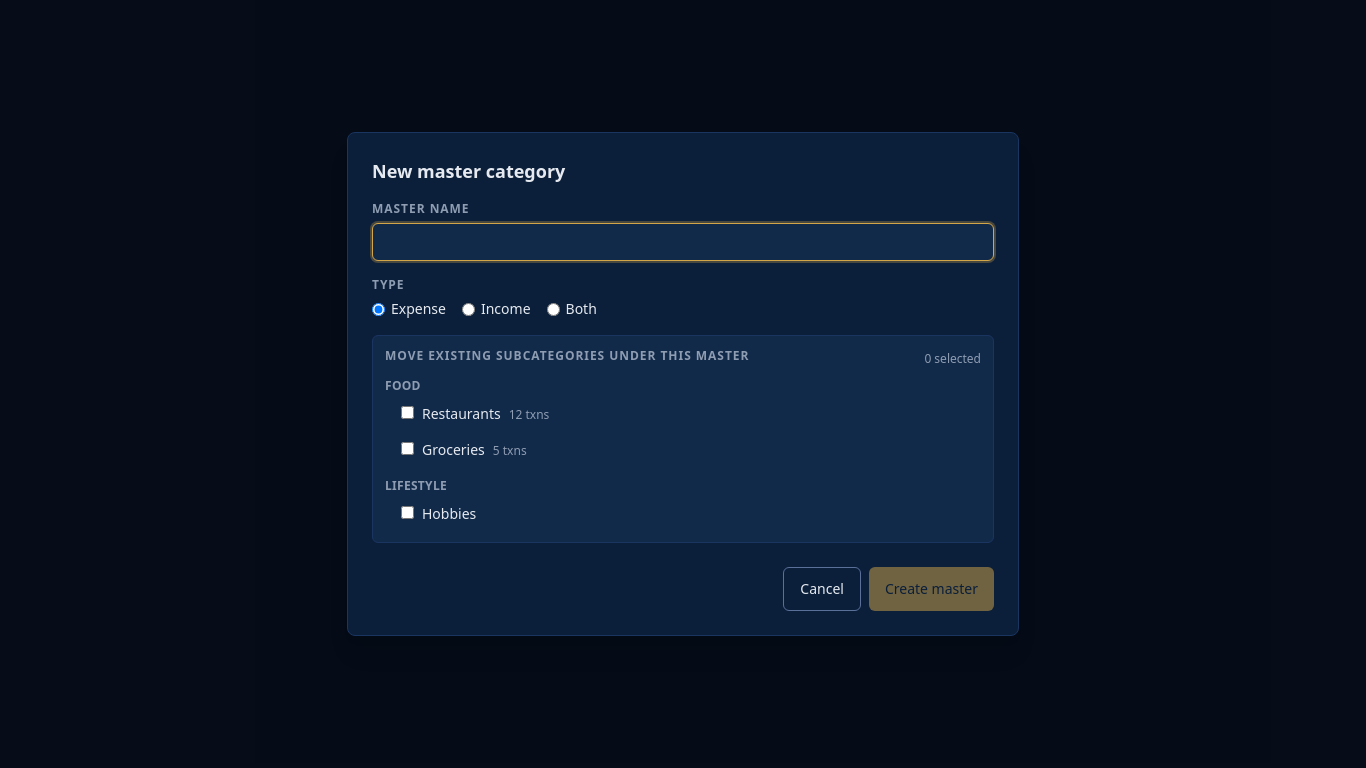
Scenario: AddMasterWithSubsModal › atomic failure (409 name_collision) keeps master and surfaces error; no per-row retry/skip UI
Type "Dining out" into the field labelled "Master name" at (683, 242), box [372,223,994,261]
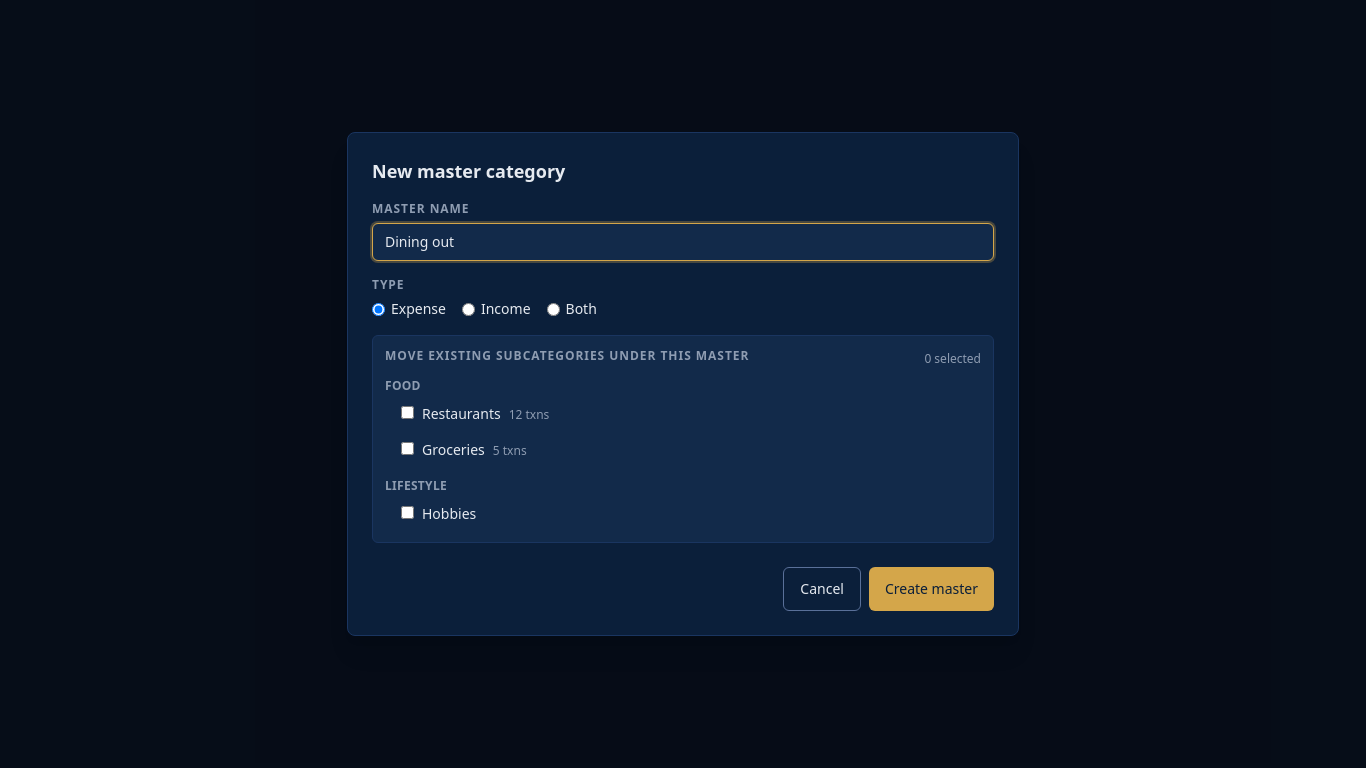
Click the checkbox named "Move subcategory Restaurants under new master" at (408, 412), box [401,406,414,419]
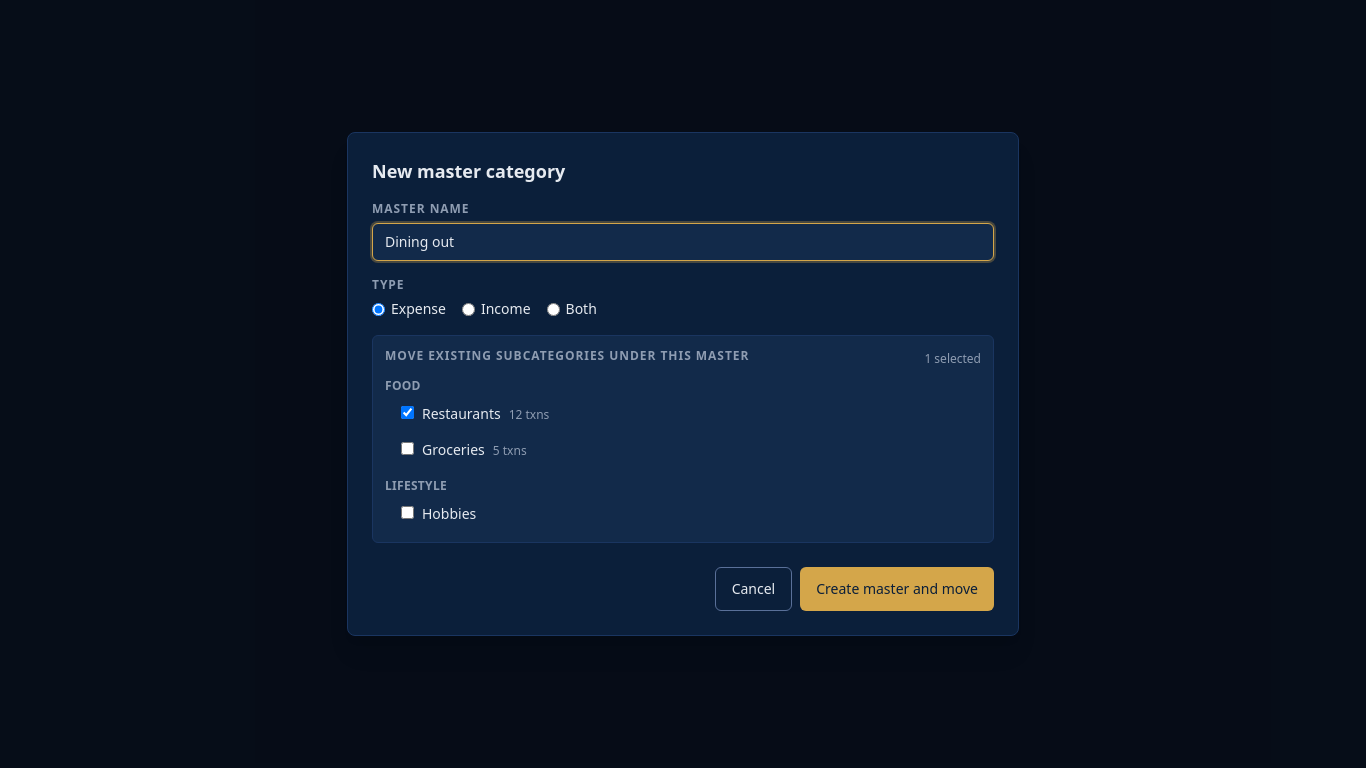
Click the checkbox named "Move subcategory Groceries under new master" at (408, 448), box [401,442,414,455]
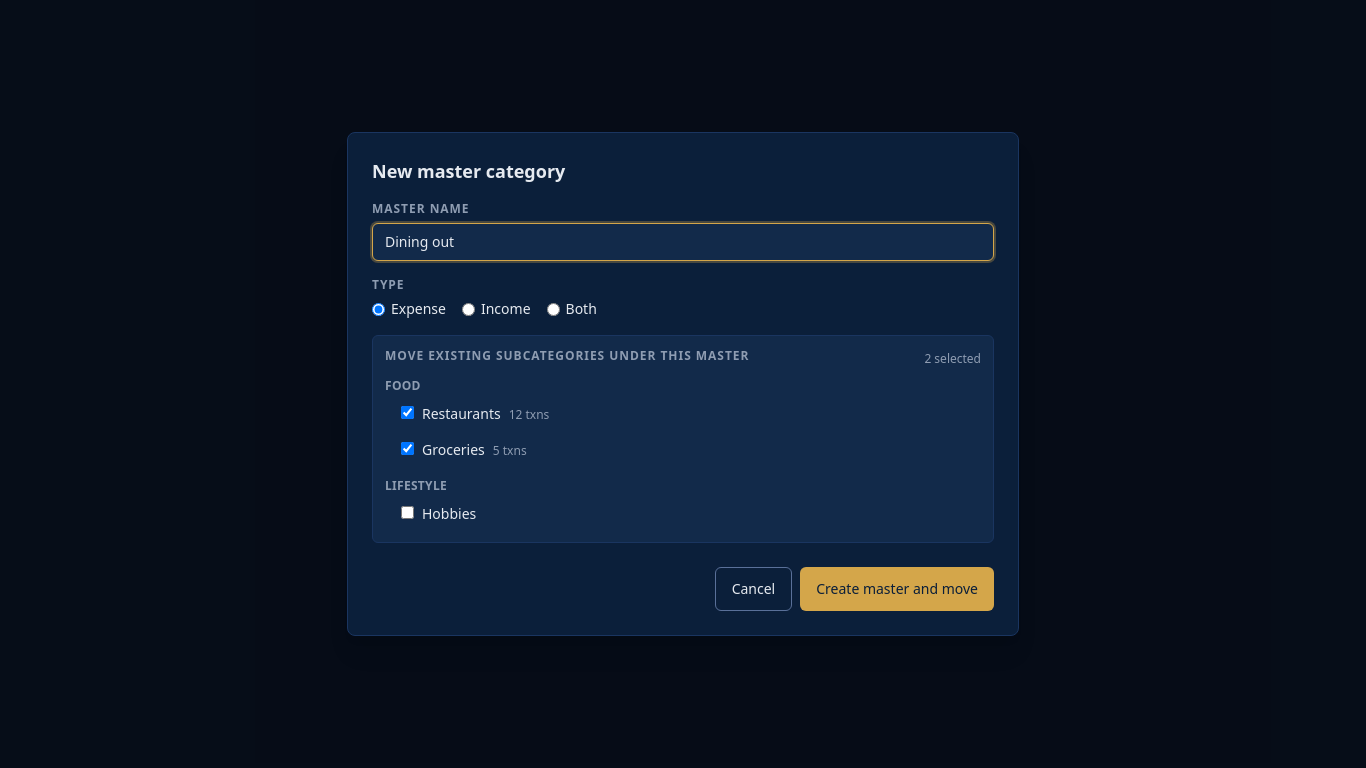
Click the button "Create master and move" at (897, 589), box [800,567,994,611]
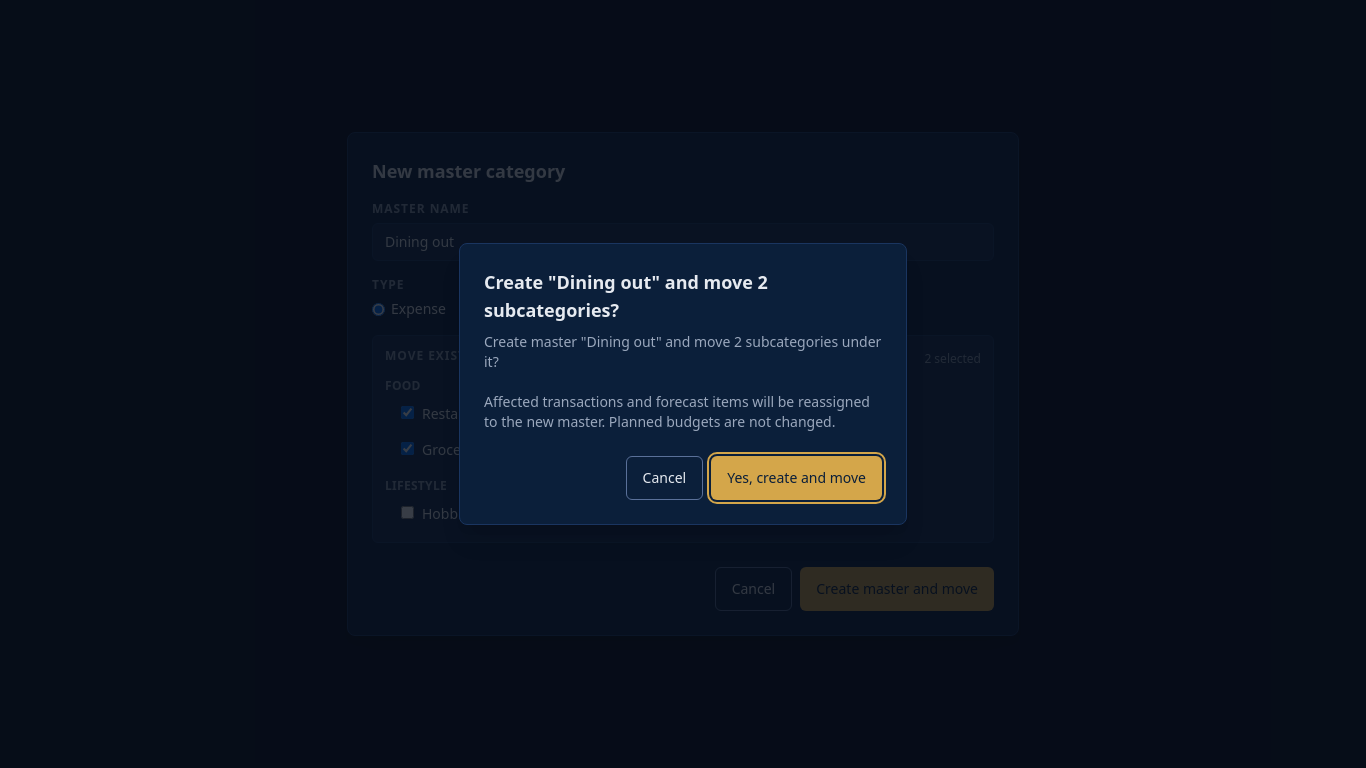
Click the button "Yes, create and move" at (797, 478), box [711,456,882,500]
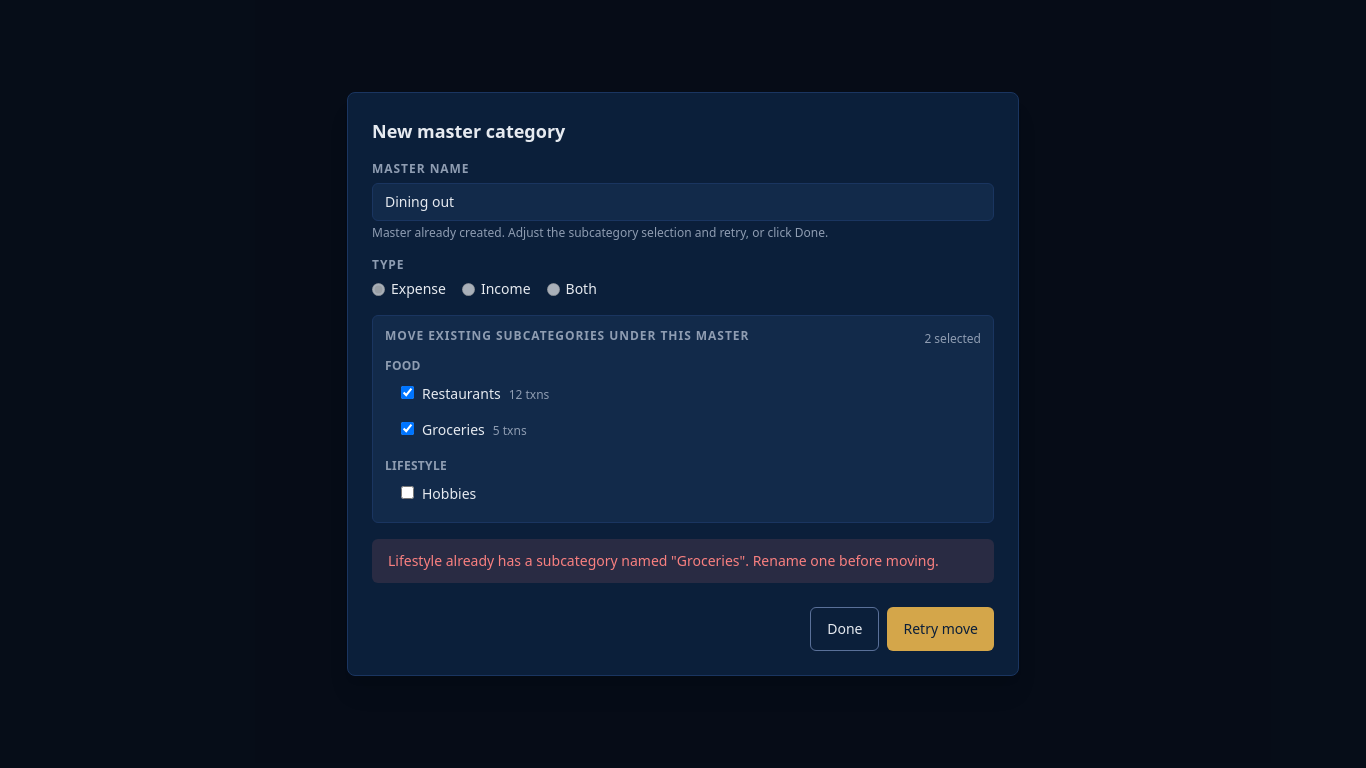
Now the checkbox named "Move subcategory Restaurants under new master" is checked, box [401,386,414,399]
Now the field labelled "Master name" is disabled, box [372,183,994,221]
Now the button "Retry move" is shown, box [888,607,994,651]
